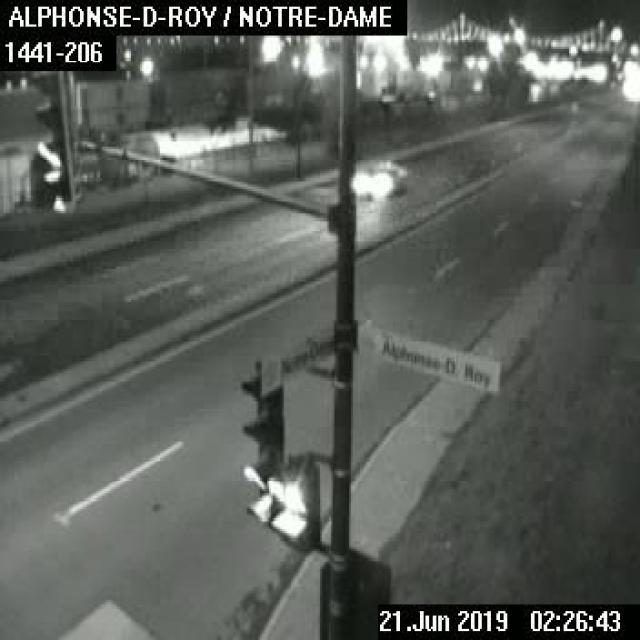vehicle: (353, 156, 405, 200)
